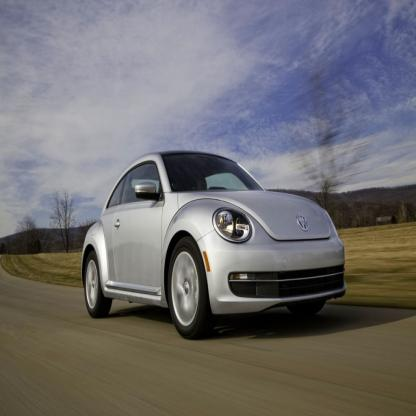Vehicle: (79, 151, 347, 340)
